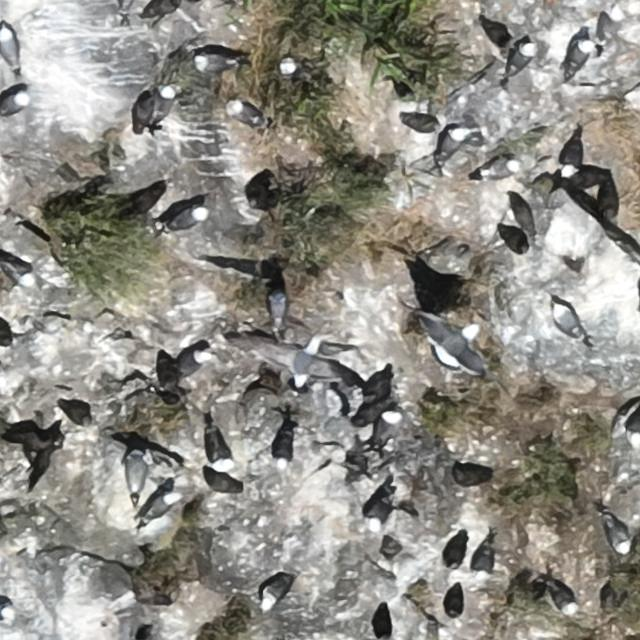F: (252, 332, 345, 393), (427, 313, 487, 376)
umineko: (202, 419, 234, 472), (278, 56, 328, 87), (171, 350, 210, 379), (366, 494, 392, 528), (128, 450, 143, 507), (260, 576, 290, 604), (382, 409, 402, 447), (171, 208, 205, 230), (4, 261, 35, 285), (147, 493, 175, 519), (607, 518, 629, 551), (508, 43, 532, 73), (439, 128, 464, 156), (231, 104, 261, 127), (551, 585, 576, 612), (553, 304, 576, 333), (194, 55, 232, 72), (157, 90, 176, 123), (0, 29, 16, 68), (1, 92, 28, 115), (472, 547, 492, 578), (564, 141, 582, 175), (484, 159, 516, 178), (571, 40, 590, 67), (274, 437, 290, 469)
